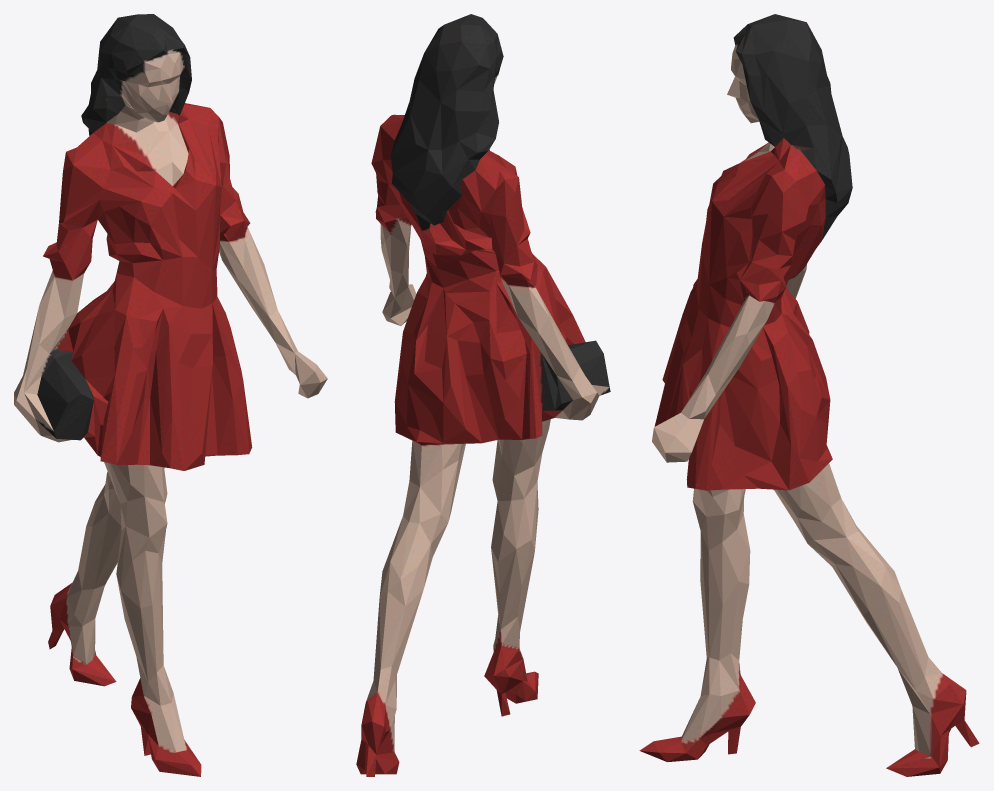
3 views of the same model, side by side, from view 1: azimuth 30°, elevation 25°; view 2: azimuth 150°, elevation 25°; view 3: azimuth 270°, elevation 25° (orthographic). The views are drawn at different scales.
Parts seen in each view (by area): view 1: lowpolyPeopleCasualWoman_18.1; view 2: lowpolyPeopleCasualWoman_18.1; view 3: lowpolyPeopleCasualWoman_18.1.
Part boxes in pixels (<box>): lowpolyPeopleCasualWoman_18.1: <box>14,14,327,776</box>; lowpolyPeopleCasualWoman_18.1: <box>356,14,610,776</box>; lowpolyPeopleCasualWoman_18.1: <box>639,14,979,776</box>.
Size of the model in its own units: 57.77 by 151 by 62.78.
Materials: 2 (1 with a texture image).
